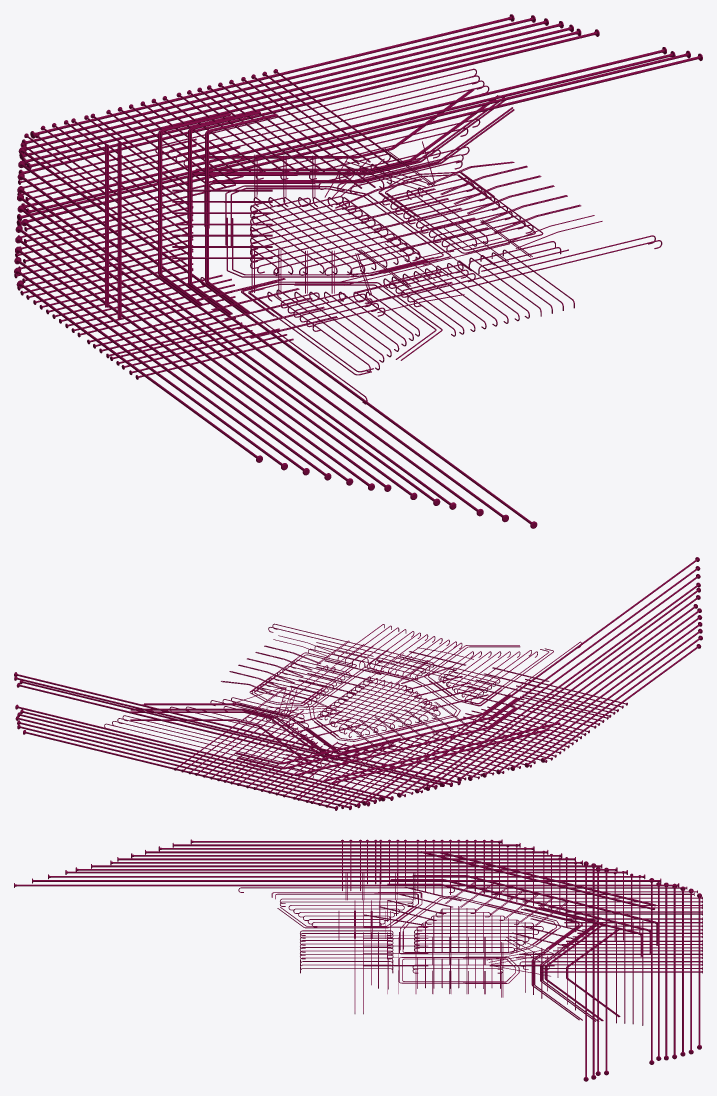
File: T1Block02_OneQuarter_TopSlabRebar.fbx
3 renders of one model, top to bottom at view 1: azimuth 30°, elevation 25°; view 2: azimuth 150°, elevation 25°; view 3: azimuth 270°, elevation 25°, orthographic. The views are drawn at different scales.
Parts seen in each view (by area): view 1: default; view 2: default; view 3: default.
Boxes of the visible parts, x1=… form: default: x1=14, y1=14, x2=702, y2=528; default: x1=14, y1=557, x2=702, y2=810; default: x1=14, y1=839, x2=702, y2=1081.
Bounding box in the file's own units: 20374 × 449 × 24895.
